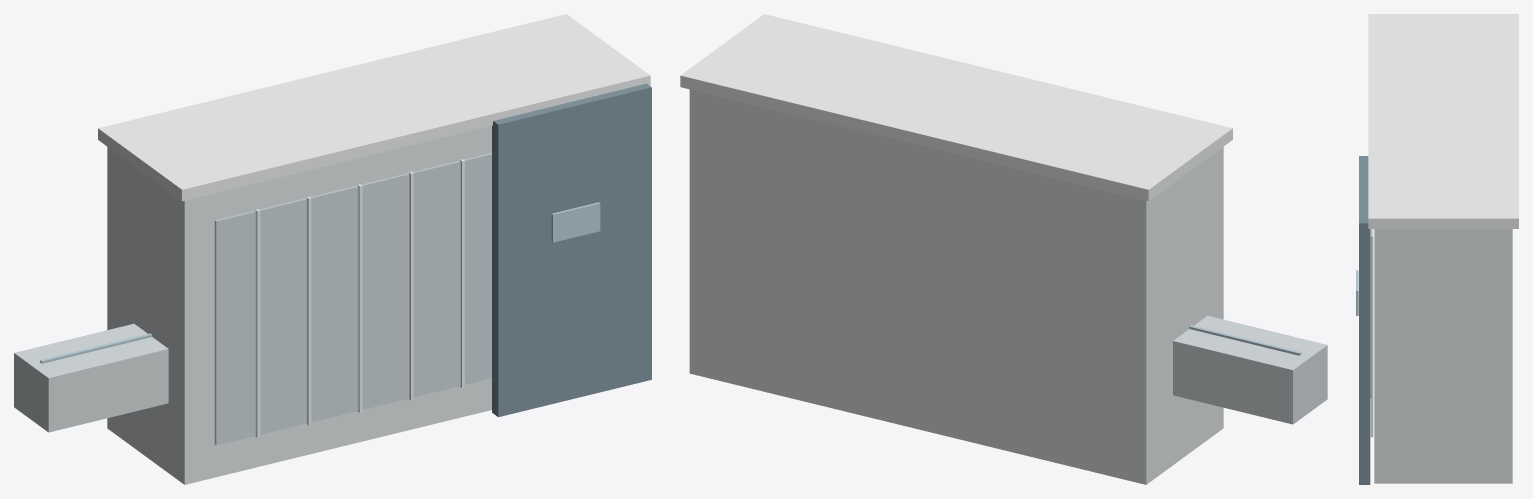
Rendered from terminal.glb.
The picture shows the model from 3 angles, left to right: view 1: azimuth 30°, elevation 25°; view 2: azimuth 150°, elevation 25°; view 3: azimuth 270°, elevation 25°; orthographic projection. The views are drawn at different scales.
Parts seen in each view (by area): view 1: TerminalBody, GlassFacade, GateTower, TerminalRoof, JetBridge, GateNumber, GlassMullion-2.0, GlassMullion-1.35, GlassMullion-0.7, GlassMullion0.6, GlassMullion-0.05; view 2: TerminalBody, TerminalRoof, JetBridge; view 3: TerminalBody, TerminalRoof, GateTower, GlassFacade, GlassMullion1.25.
Boxes of the visible parts, x1,y1,x2,y2 form: TerminalBody: (107, 126, 491, 484); GlassFacade: (214, 152, 491, 445); GateTower: (492, 83, 651, 417); TerminalRoof: (98, 14, 650, 201); JetBridge: (14, 323, 168, 432); GateNumber: (551, 202, 600, 242); GlassMullion-2.0: (255, 209, 260, 437); GlassMullion-1.35: (306, 196, 311, 425); GlassMullion-0.7: (357, 184, 362, 412); GlassMullion0.6: (460, 159, 464, 387); GlassMullion-0.05: (409, 171, 413, 400); TerminalBody: (689, 89, 1223, 484); TerminalRoof: (680, 14, 1232, 201); JetBridge: (1173, 315, 1327, 424); TerminalBody: (1374, 229, 1512, 483); TerminalRoof: (1368, 14, 1518, 228); GateTower: (1359, 156, 1370, 484); GlassFacade: (1370, 229, 1373, 437); GlassMullion1.25: (1370, 229, 1371, 397).
Bounding box in the file's own units: 7.4 × 3.63 × 2.
